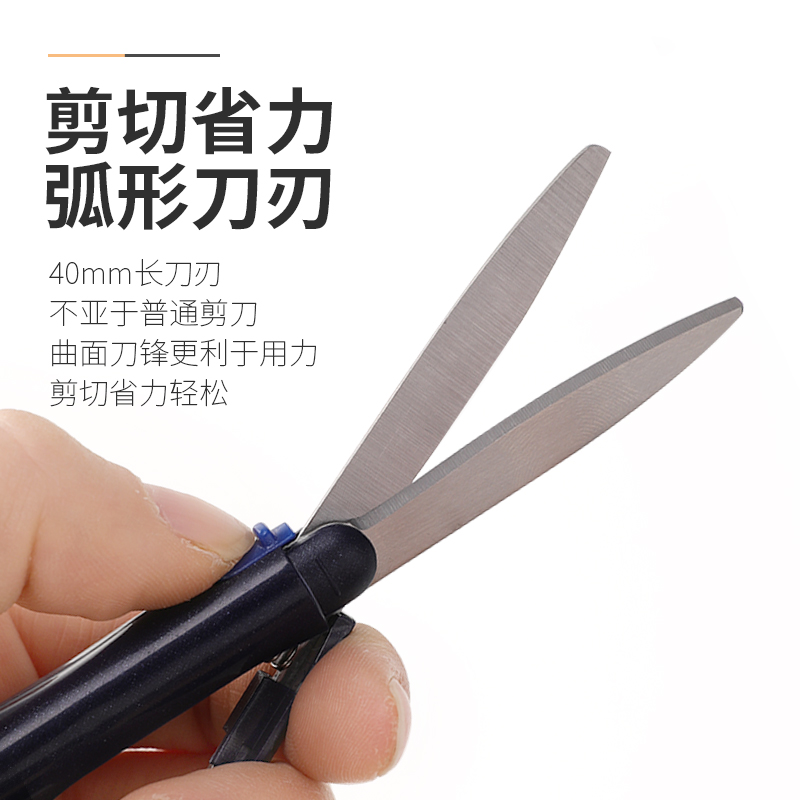scissors: (2, 137, 758, 800)
